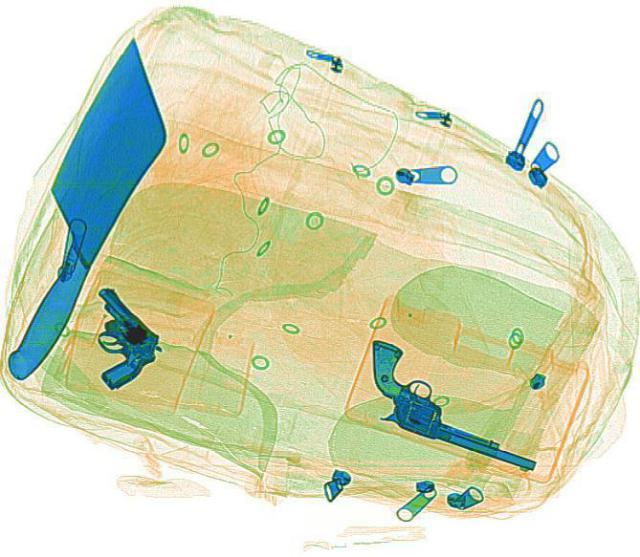Gun: (336, 337, 566, 472), (46, 282, 176, 391)
Knife: (0, 37, 206, 292)
